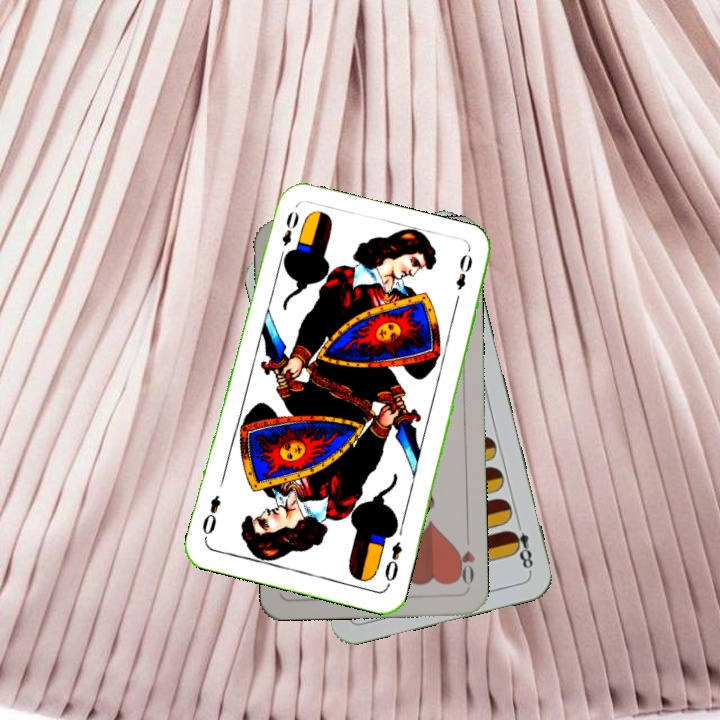E8: (506, 516, 536, 574)
EO: (275, 207, 302, 263), (380, 537, 405, 589)
HO: (452, 531, 477, 587)
